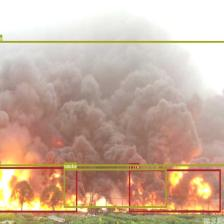fire: (129, 169, 220, 212), (0, 166, 77, 212)
smoke: (0, 40, 224, 166), (63, 168, 166, 208)
